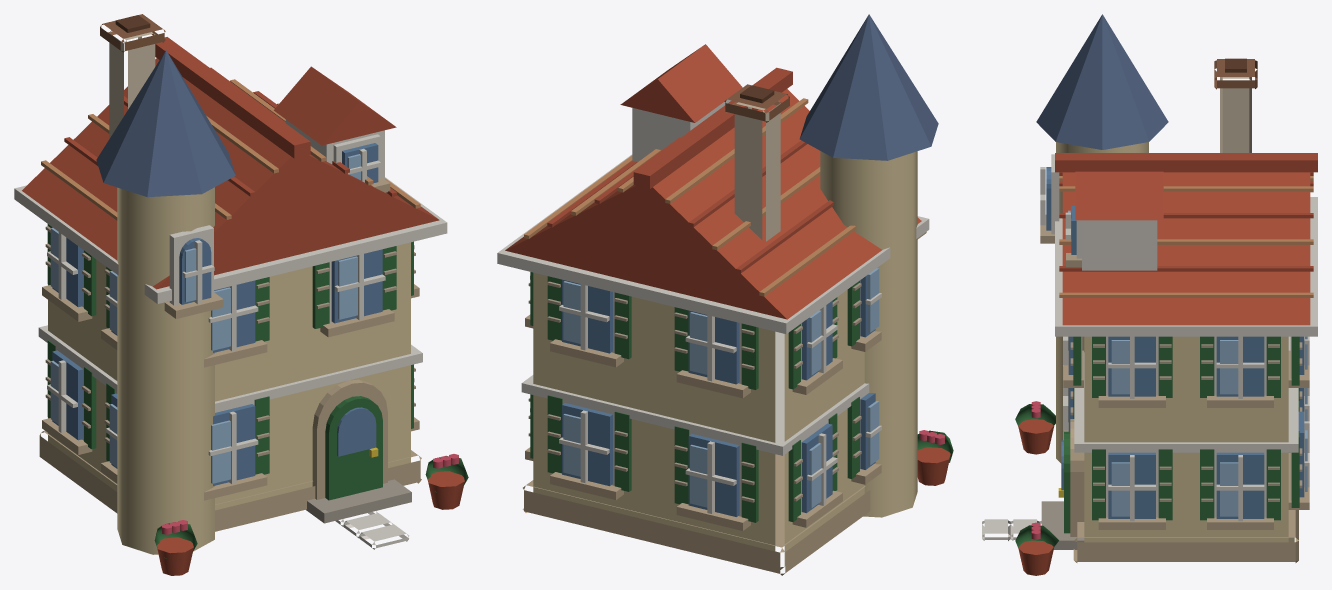
File: house-d.glb
3 renders of one model, left to right at view 1: azimuth 30°, elevation 25°; view 2: azimuth 150°, elevation 25°; view 3: azimuth 270°, elevation 25°, orthographic. The views are drawn at different scales.
Visible parts, largest first — view 1: house-d; view 2: house-d; view 3: house-d.
Part boxes in pixels (left/top/right/bottom): house-d: left=14, top=14, right=468, bottom=575; house-d: left=497, top=14, right=953, bottom=575; house-d: left=982, top=14, right=1317, bottom=575.
Bounding box in the file's own units: 0.86 × 1.23 × 0.8362.
